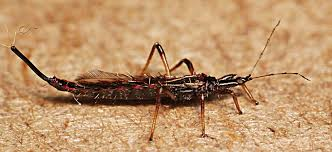Phlaeothripidae: (10, 16, 310, 144)
